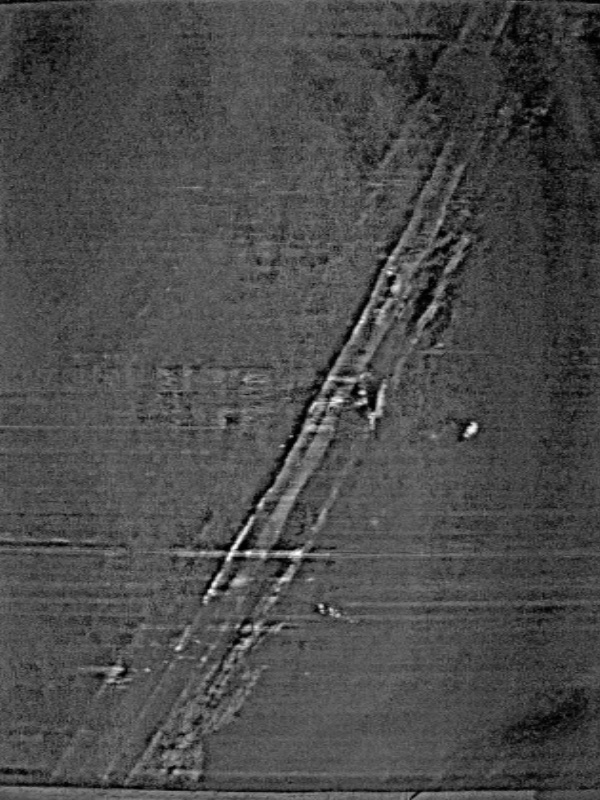splice_vulcanized: (47, 9, 556, 784)
